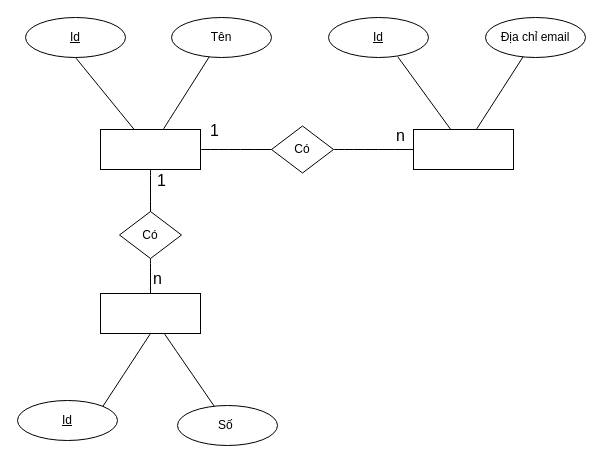
The diagram is 603 pixels wide and 463 high, and some of its shapes have lost their labels. Here are the shapes that lost their labels. From the top down, the centre of each, then its label:
the point at 150,149: Người
the point at 463,149: Email
the point at 150,313: Số điện thoại
